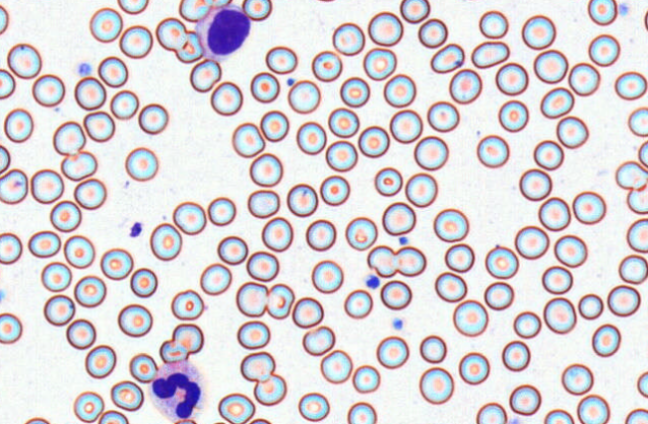GRAN: (151, 360, 206, 422)
MONO: (192, 6, 252, 58)
PLT: (76, 62, 93, 77), (365, 274, 380, 290), (397, 235, 410, 245), (392, 319, 403, 329)
RBC: (418, 366, 454, 404), (452, 299, 488, 336), (6, 42, 41, 78), (367, 11, 403, 46), (149, 222, 182, 260), (543, 296, 576, 334), (413, 135, 448, 170), (521, 14, 556, 49), (448, 68, 482, 104), (30, 168, 64, 204), (433, 208, 469, 242), (533, 49, 568, 83), (117, 303, 152, 337), (124, 146, 158, 181), (231, 122, 265, 157), (514, 225, 549, 259), (484, 244, 518, 279), (235, 281, 268, 317), (210, 80, 243, 116), (217, 392, 255, 423), (172, 201, 206, 235), (381, 201, 415, 235), (31, 73, 65, 107), (572, 190, 606, 224), (389, 108, 422, 143), (249, 152, 282, 187), (404, 172, 437, 207), (52, 120, 85, 155), (89, 7, 122, 42), (261, 216, 293, 252), (60, 150, 97, 181), (287, 79, 320, 113), (476, 134, 509, 168), (319, 349, 352, 383), (119, 24, 152, 58), (518, 168, 552, 201), (376, 335, 409, 369), (553, 234, 587, 267), (362, 47, 396, 80), (383, 73, 416, 107), (538, 196, 570, 231), (239, 351, 275, 382), (470, 40, 509, 68), (253, 373, 286, 406), (199, 262, 232, 295), (100, 247, 133, 280), (607, 284, 640, 317), (495, 62, 528, 95), (332, 22, 365, 55), (155, 17, 187, 51), (63, 234, 95, 268), (189, 58, 221, 92), (84, 344, 116, 378), (311, 259, 343, 293), (458, 351, 490, 385), (345, 216, 377, 250), (74, 76, 106, 110), (286, 183, 318, 217), (568, 62, 600, 96), (540, 86, 574, 118), (73, 177, 106, 209), (73, 275, 106, 307), (49, 199, 81, 232), (426, 100, 459, 132), (556, 115, 588, 148), (497, 99, 529, 132), (588, 33, 620, 66), (170, 289, 204, 320), (110, 380, 144, 411), (430, 42, 464, 73), (3, 107, 33, 142), (43, 294, 75, 326), (83, 110, 115, 142), (561, 363, 593, 395), (357, 125, 389, 157), (302, 325, 335, 356), (73, 390, 104, 423), (246, 250, 279, 281), (434, 271, 467, 302), (295, 121, 326, 154), (591, 323, 621, 357), (266, 283, 294, 319), (0, 168, 28, 204), (171, 323, 203, 354), (292, 296, 323, 328), (40, 261, 72, 292), (509, 384, 541, 415), (305, 219, 336, 251), (97, 55, 128, 87), (325, 140, 357, 171), (614, 70, 647, 100), (236, 320, 270, 349), (576, 394, 610, 423), (395, 245, 426, 276), (380, 279, 411, 310), (65, 318, 96, 349), (319, 174, 350, 205), (533, 139, 564, 170), (311, 50, 342, 81), (339, 76, 370, 107), (615, 160, 647, 190), (259, 109, 289, 141), (327, 107, 359, 137), (138, 102, 168, 134), (247, 189, 280, 218), (27, 230, 61, 258), (217, 235, 248, 265), (250, 71, 279, 103), (297, 392, 329, 421), (541, 265, 573, 294), (265, 45, 297, 74), (109, 89, 139, 119), (417, 18, 447, 48), (129, 352, 158, 383), (618, 253, 647, 284), (343, 288, 372, 319), (501, 340, 530, 371), (207, 196, 236, 226), (484, 281, 514, 310), (444, 243, 474, 272), (478, 10, 508, 39), (175, 31, 202, 63), (374, 166, 402, 196), (352, 364, 380, 393), (130, 267, 157, 297), (513, 310, 541, 338), (419, 334, 446, 363), (587, 0, 617, 25), (626, 218, 647, 252), (399, 0, 430, 23), (178, 0, 210, 22), (0, 312, 22, 344), (0, 232, 22, 264), (577, 293, 603, 320), (159, 339, 188, 363), (475, 402, 507, 423), (346, 401, 376, 423), (626, 184, 647, 214), (627, 106, 647, 137), (242, 0, 272, 20), (0, 68, 15, 99), (97, 409, 128, 424), (543, 408, 574, 423), (117, 0, 148, 14), (624, 407, 647, 423), (636, 370, 647, 398), (0, 144, 10, 174), (638, 139, 647, 168), (0, 4, 8, 34), (23, 416, 50, 424), (205, 0, 232, 7), (248, 417, 272, 424), (173, 418, 197, 424), (643, 6, 648, 31), (309, 0, 338, 2), (210, 421, 227, 424)
Schistocyte: (367, 246, 397, 279)
